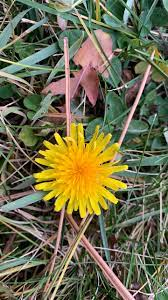dandelion yellow: (34, 122, 129, 215)
